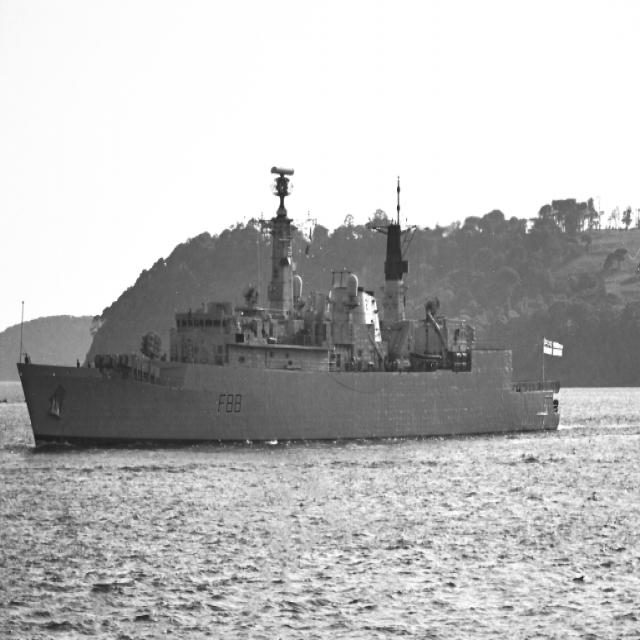Fragata: (15, 163, 567, 457)
